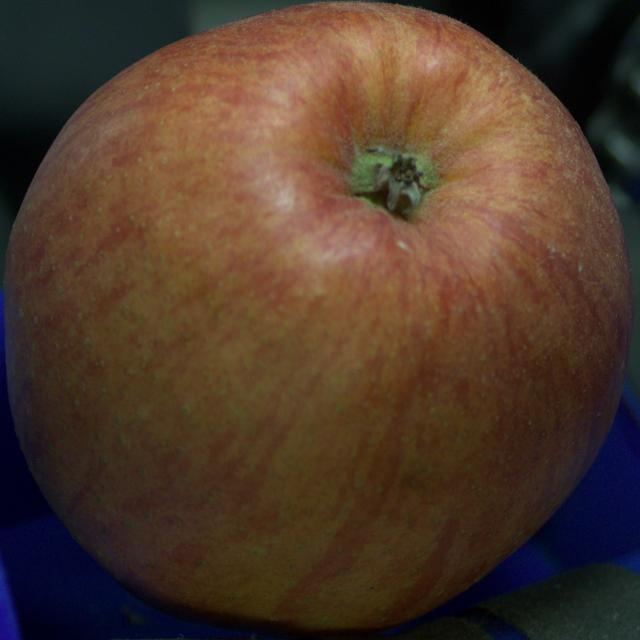apple: (4, 3, 633, 634)
